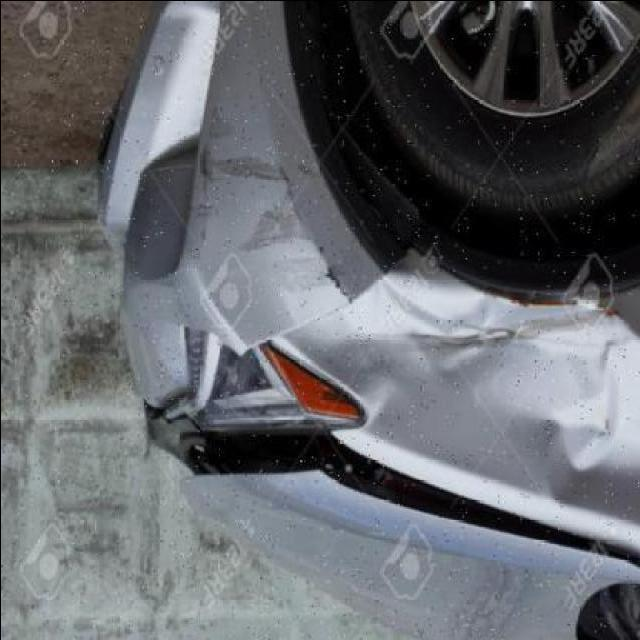Headlight-Damage: (144, 309, 370, 470)
fender-dent: (320, 254, 640, 503)
front-bumper-dent: (86, 4, 360, 348)
